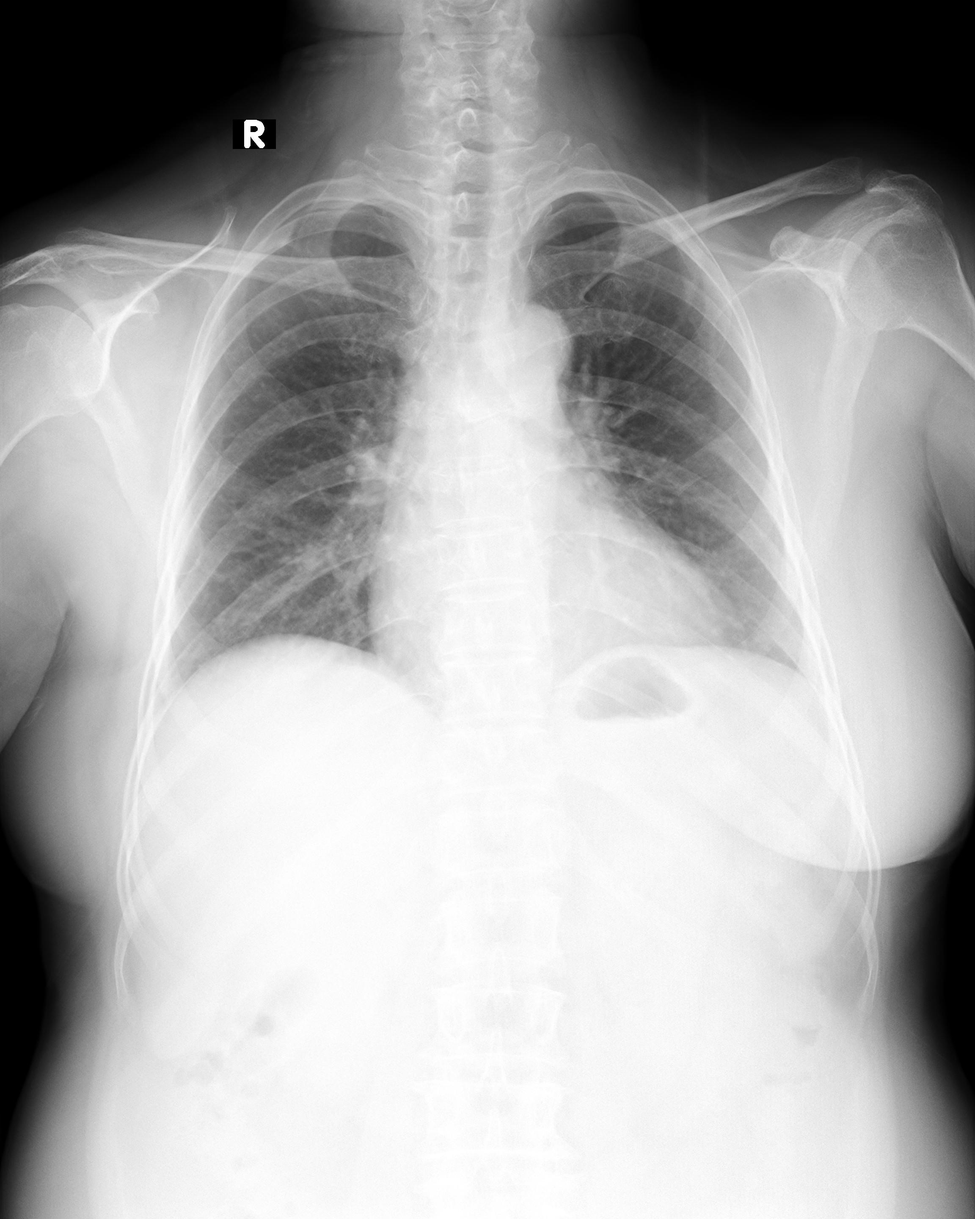Aortic enlargement: (474, 298, 574, 403)
Cardiomegaly: (366, 570, 745, 687)
Pleural thickening: (286, 197, 386, 217), (591, 189, 642, 208)
